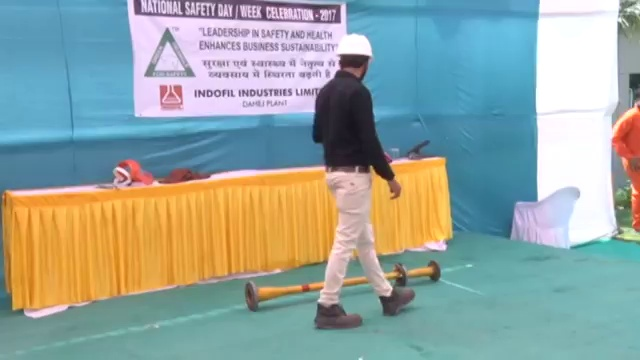helmet: (334, 33, 374, 61)
helmet_on: (334, 32, 375, 81)
person: (302, 31, 417, 330)
